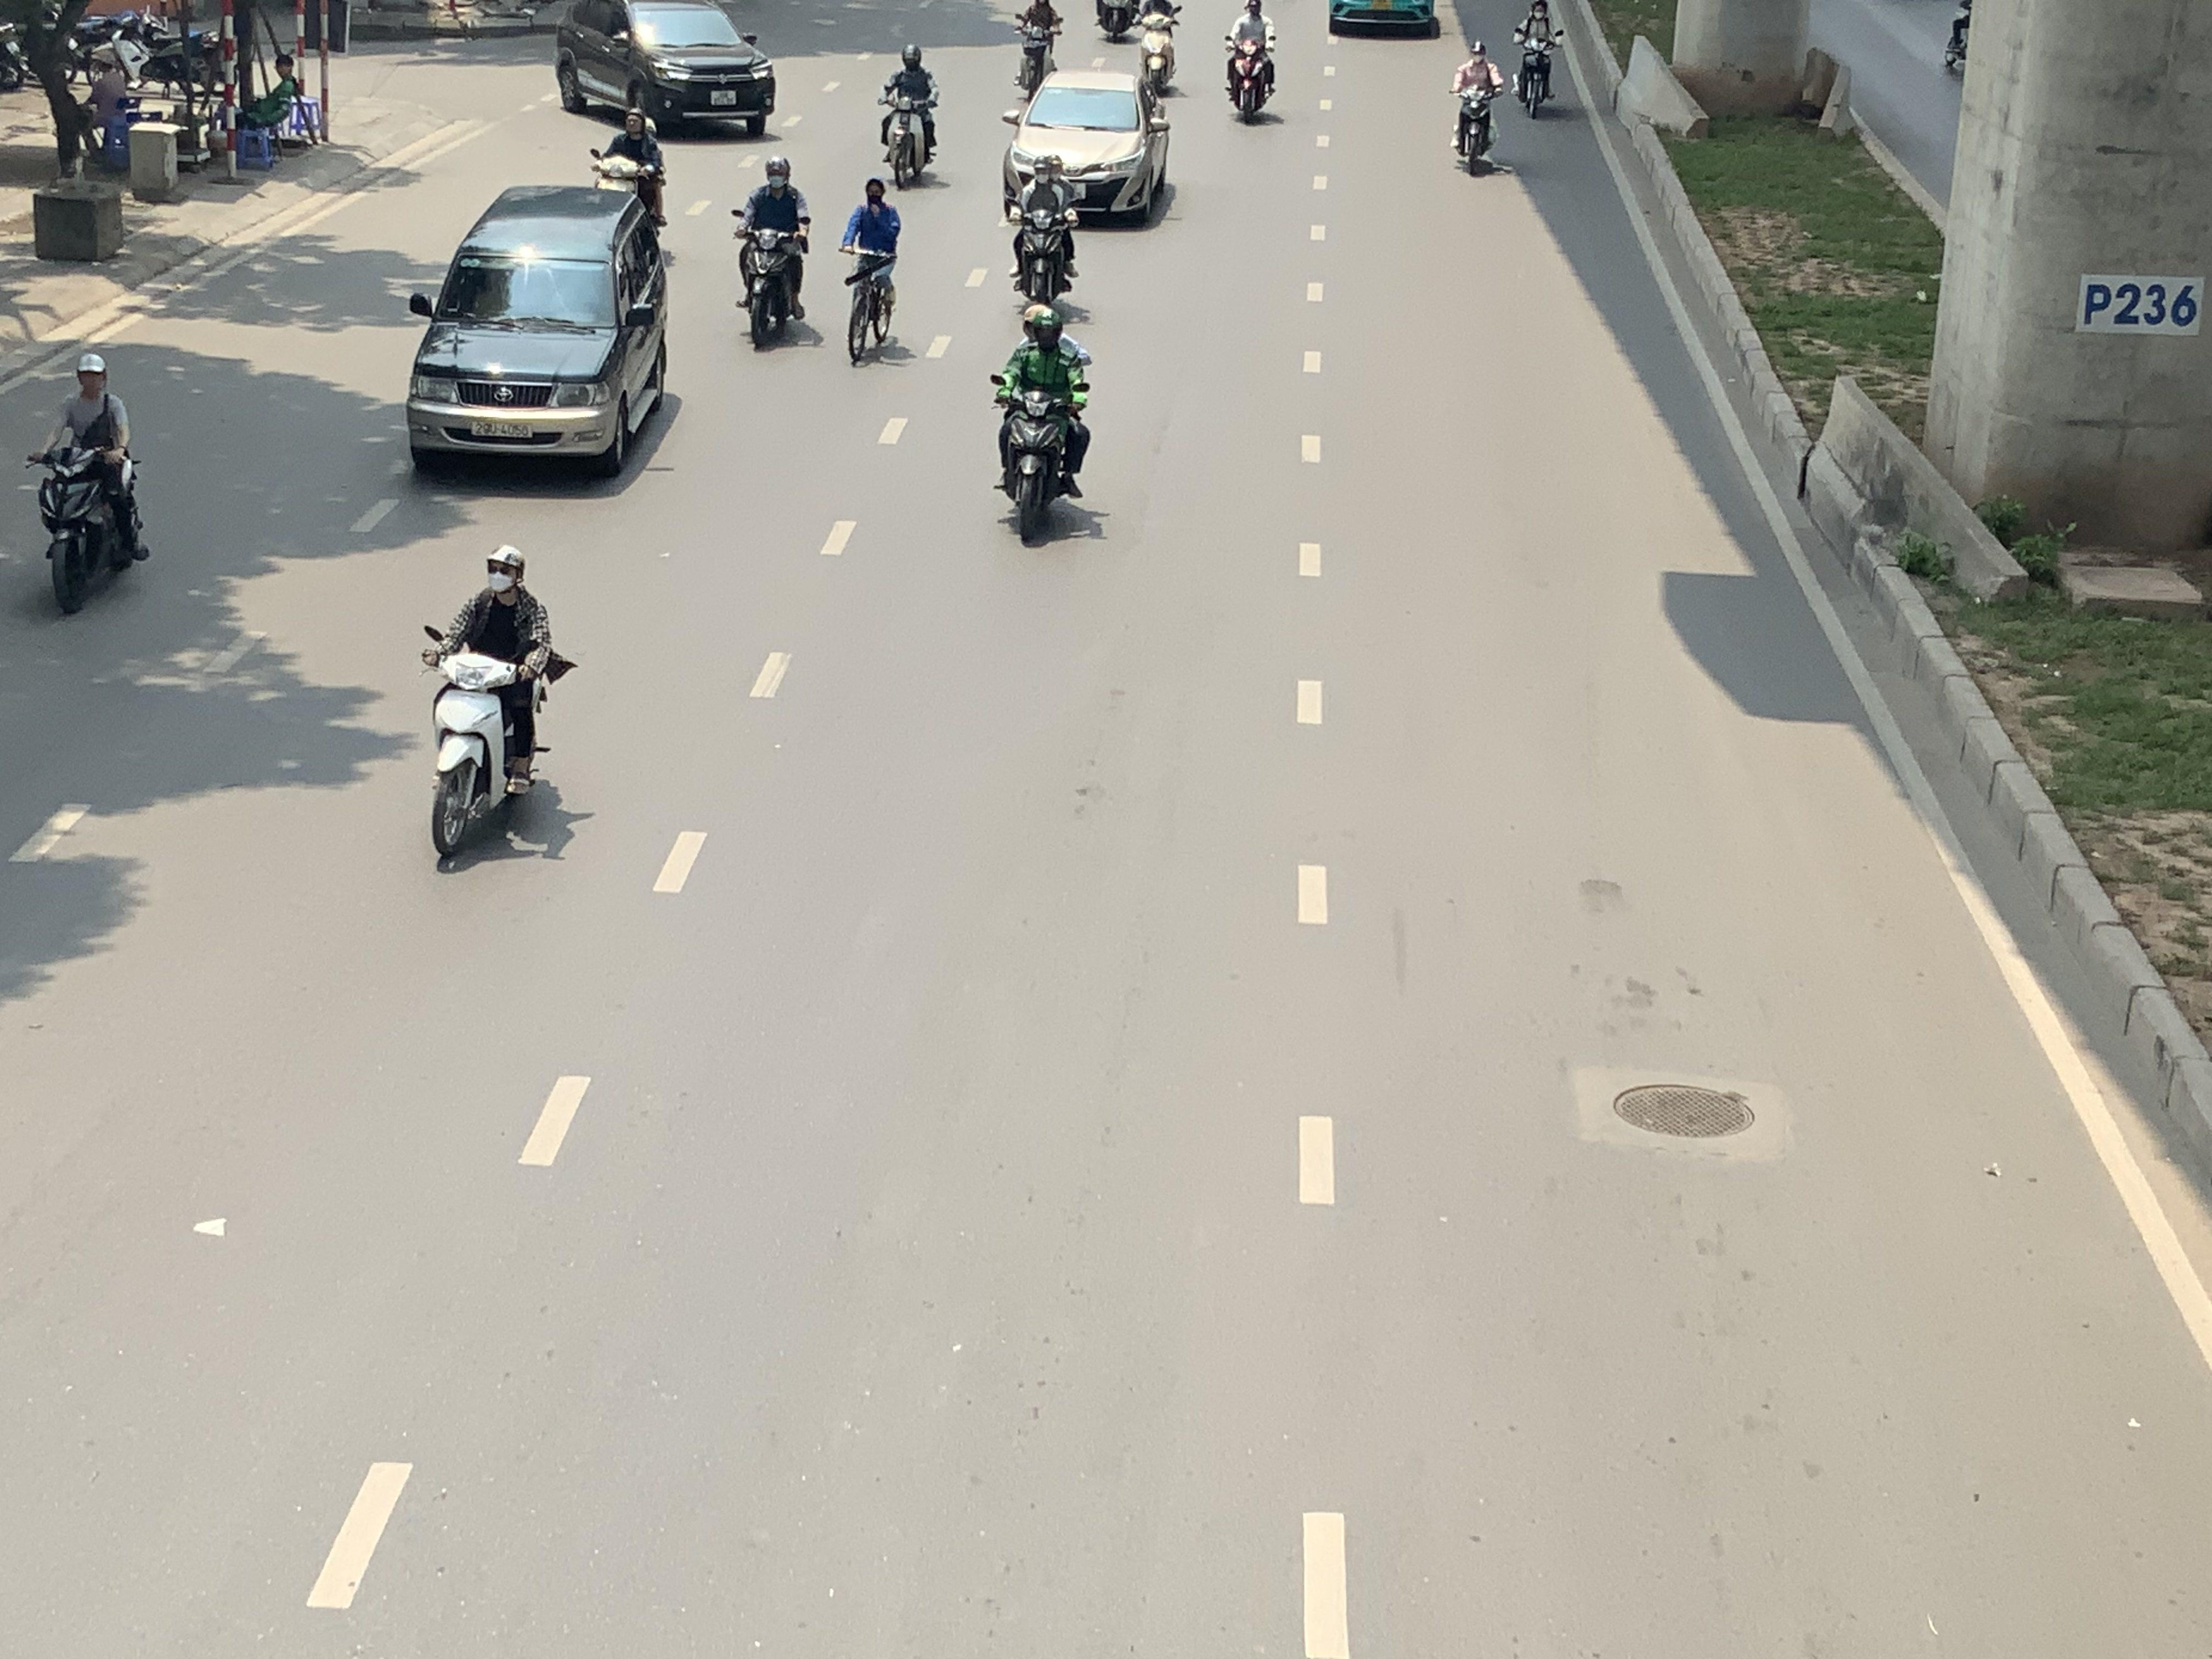BSD: (474, 420, 531, 437)
BSV: (711, 89, 737, 105)
car: (404, 183, 676, 479), (554, 0, 775, 138), (1000, 64, 1174, 228)
motorbike: (423, 547, 563, 875), (28, 354, 150, 619), (991, 301, 1090, 547), (732, 155, 812, 352), (840, 176, 904, 366), (1007, 153, 1080, 308), (590, 106, 669, 239), (878, 45, 942, 188), (1223, 0, 1278, 124), (1451, 40, 1501, 174), (1512, 0, 1561, 119), (1012, 0, 1064, 99), (1132, 0, 1181, 98)
